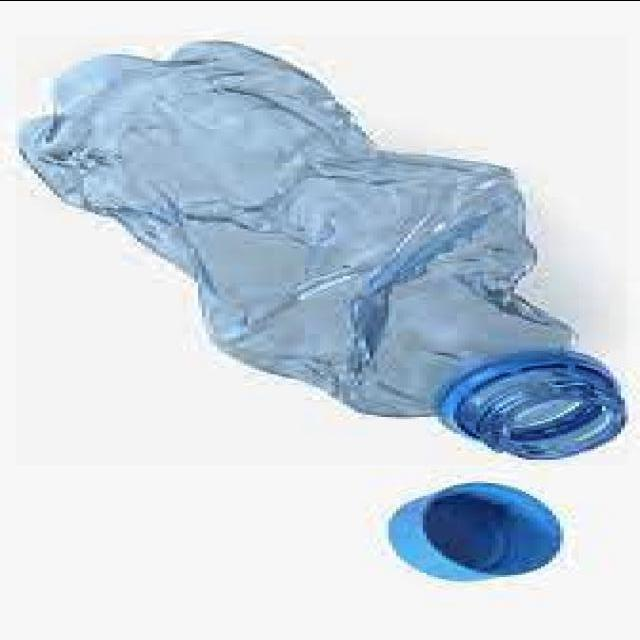寶特瓶: (16, 34, 627, 464)
